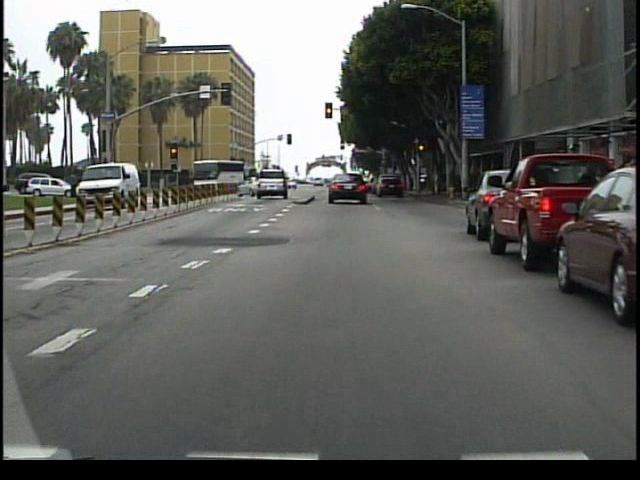person: (69, 169, 83, 199), (83, 172, 95, 202), (87, 174, 97, 208)
